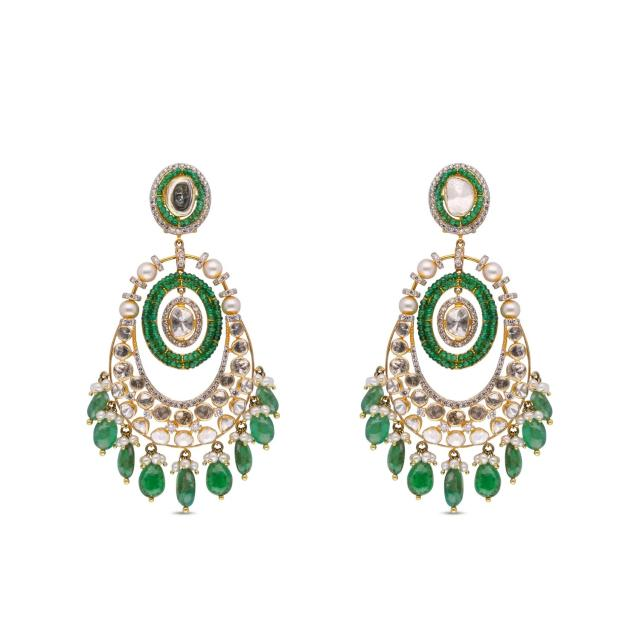missing gem: (168, 179, 195, 215)
